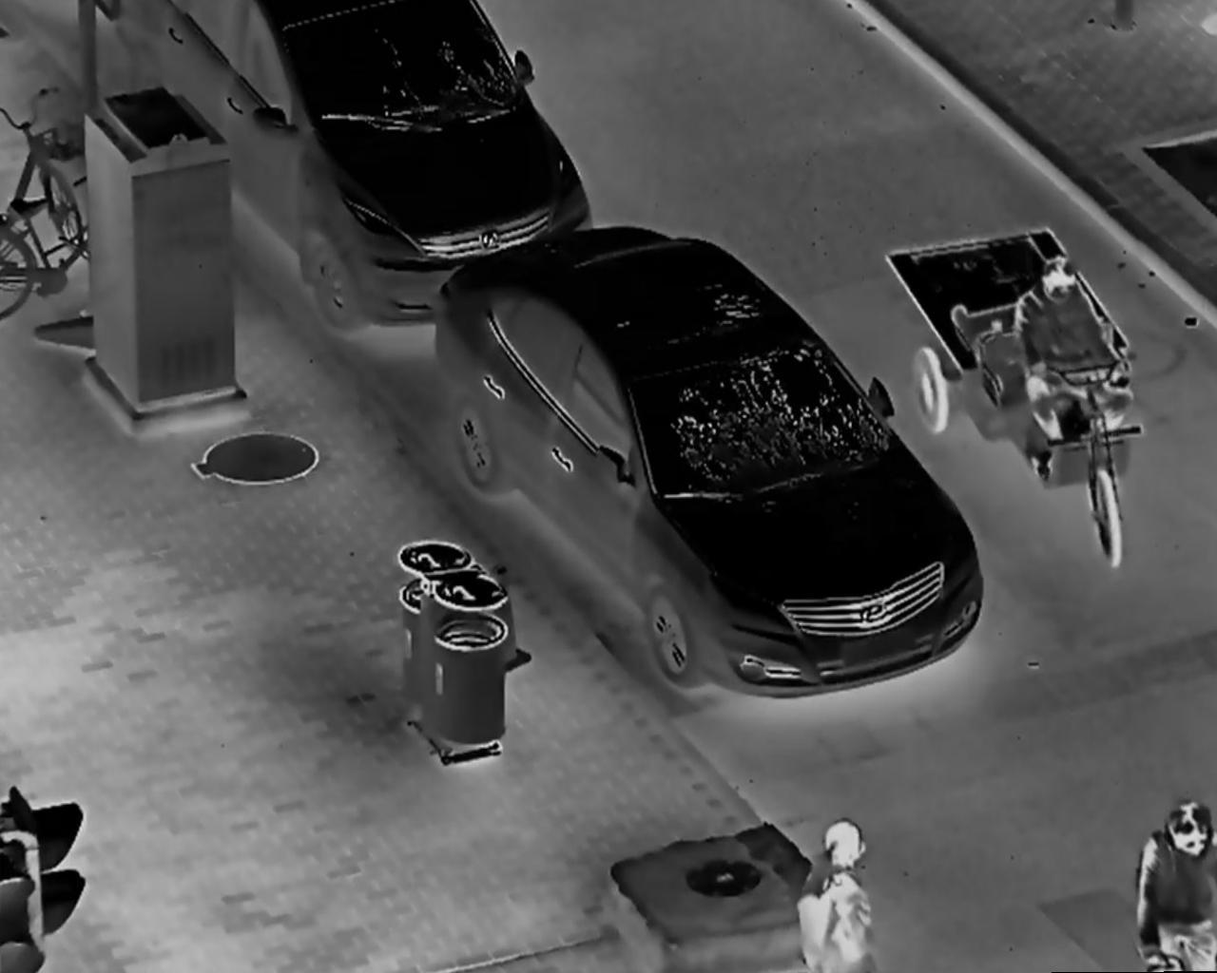person: (1012, 251, 1138, 479), (1131, 788, 1217, 973), (794, 817, 890, 973)
